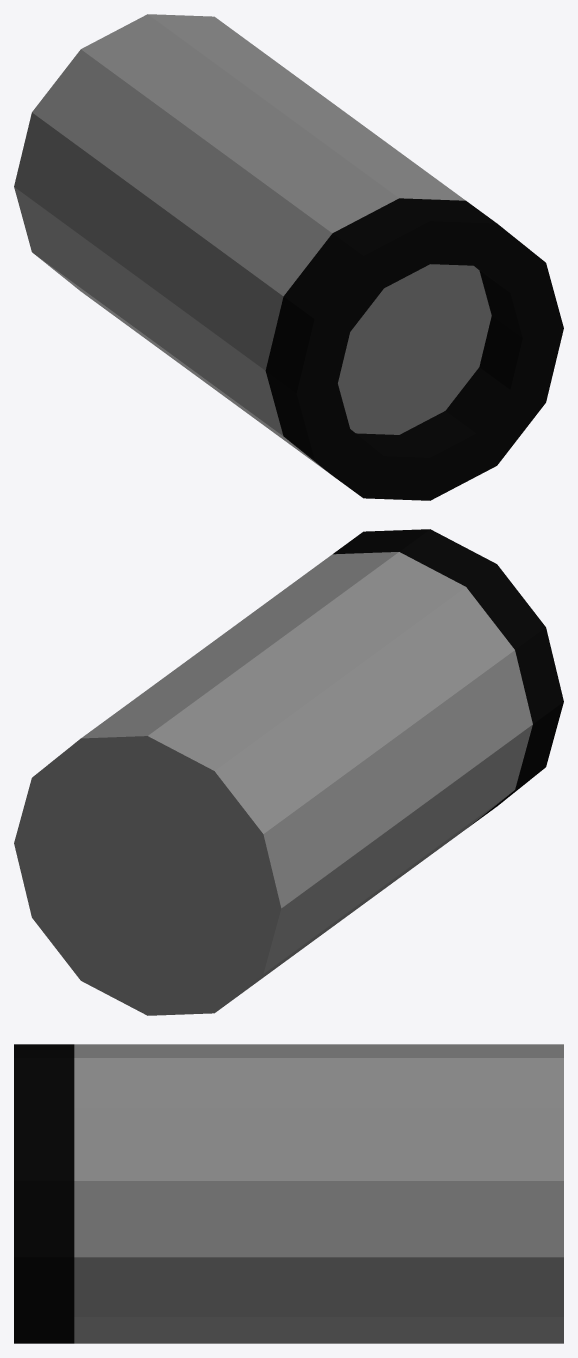
Rendered from Left_Eye.fbx.
3 views of the same model, one above another, from view 1: azimuth 30°, elevation 25°; view 2: azimuth 150°, elevation 25°; view 3: azimuth 270°, elevation 25° (orthographic). The views are drawn at different scales.
Visible parts, largest first — view 1: Left_Eye; view 2: Left_Eye; view 3: Left_Eye.
Boxes of the visible parts, bbox=[...] form: Left_Eye: bbox=[14, 14, 563, 500]; Left_Eye: bbox=[14, 529, 563, 1015]; Left_Eye: bbox=[14, 1044, 563, 1343].
Size of the model in its own units: 10.72 by 10.72 by 19.62.
Materials: 1 (1 with a texture image).
